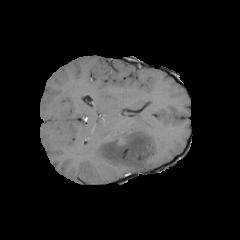glioma: (96, 116, 154, 171)
